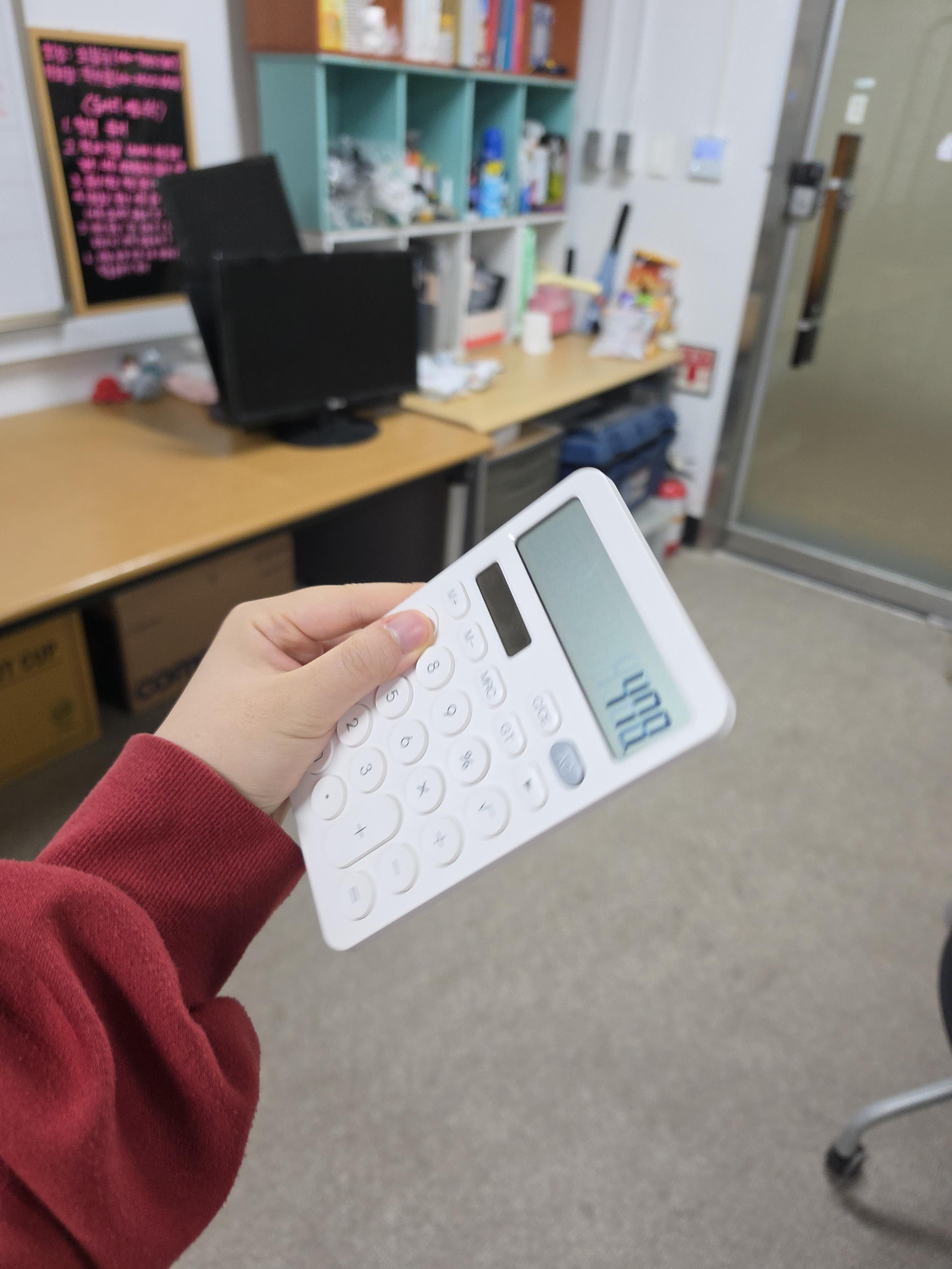calculator: (289, 467, 737, 951)
